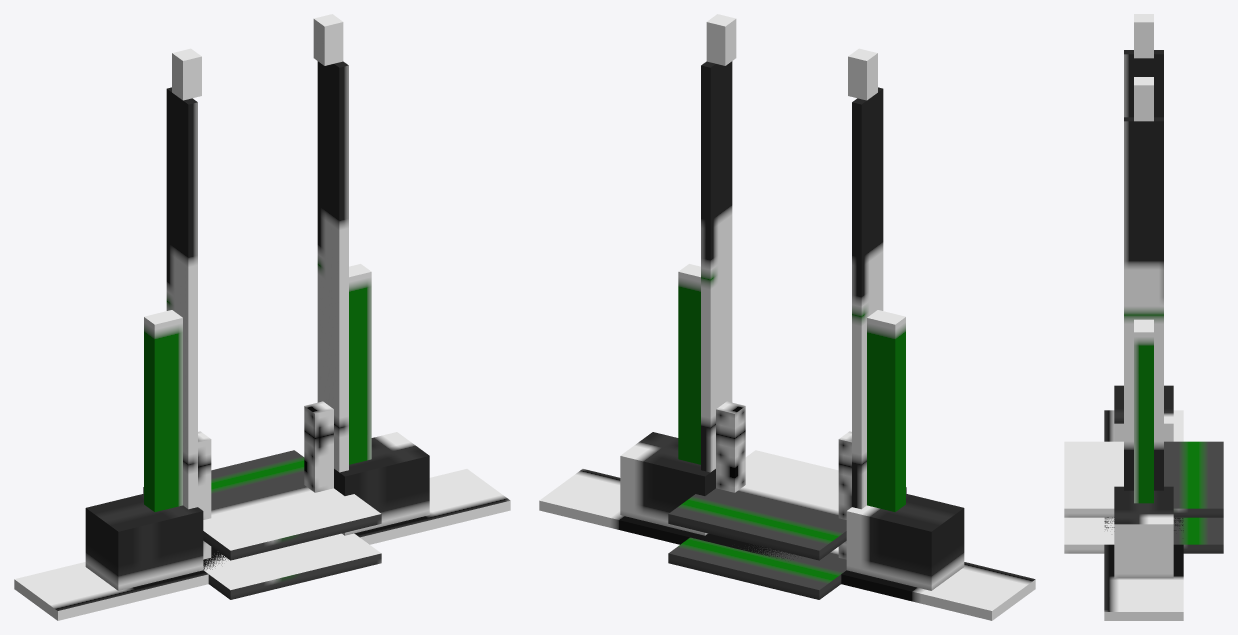
The model's file is launcher.obj.
3 views of the same model, side by side, from view 1: azimuth 30°, elevation 25°; view 2: azimuth 150°, elevation 25°; view 3: azimuth 270°, elevation 25° (orthographic). The views are drawn at different scales.
Visible parts, largest first — view 1: Shape11, Shape6, Shape15, Shape7, Shape17, Shape9, Shape1, Shape16, Shape12, Shape13.001, Shape14, Shape10 (+1 smaller); view 2: Shape11, Shape6, Shape15, Shape7, Shape17, Shape9, Shape16, Shape1, Shape12, Shape13.001, Shape14, Shape10 (+1 smaller); view 3: Shape11, Shape6, Shape16, Shape15, Shape12, Shape1, Shape7, Shape17, Shape10, Shape14.
Boxes of the visible parts, x1=… form: Shape11: x1=317, y1=61, x2=348, y2=472; Shape6: x1=143, y1=450, x2=381, y2=560; Shape15: x1=14, y1=469, x2=510, y2=620; Shape7: x1=166, y1=87, x2=197, y2=509; Shape17: x1=85, y1=493, x2=203, y2=590; Shape9: x1=144, y1=310, x2=182, y2=511; Shape1: x1=203, y1=533, x2=381, y2=599; Shape16: x1=334, y1=432, x2=429, y2=535; Shape12: x1=349, y1=264, x2=371, y2=464; Shape13.001: x1=304, y1=401, x2=333, y2=492; Shape14: x1=313, y1=14, x2=343, y2=65; Shape10: x1=172, y1=48, x2=201, y2=100; Shape11: x1=701, y1=61, x2=732, y2=472; Shape6: x1=668, y1=450, x2=906, y2=560; Shape15: x1=539, y1=469, x2=1035, y2=620; Shape7: x1=852, y1=87, x2=883, y2=509; Shape17: x1=846, y1=493, x2=964, y2=590; Shape9: x1=867, y1=310, x2=905, y2=511; Shape16: x1=620, y1=432, x2=715, y2=535; Shape1: x1=668, y1=537, x2=846, y2=599; Shape12: x1=678, y1=264, x2=700, y2=464; Shape13.001: x1=716, y1=401, x2=745, y2=492; Shape14: x1=706, y1=14, x2=736, y2=65; Shape10: x1=848, y1=48, x2=877, y2=100; Shape11: x1=1124, y1=117, x2=1163, y2=490; Shape6: x1=1064, y1=441, x2=1223, y2=517; Shape16: x1=1114, y1=486, x2=1173, y2=578; Shape15: x1=1104, y1=410, x2=1183, y2=620; Shape12: x1=1134, y1=319, x2=1153, y2=503; Shape1: x1=1064, y1=517, x2=1223, y2=553; Shape7: x1=1124, y1=50, x2=1163, y2=117; Shape17: x1=1114, y1=385, x2=1173, y2=441; Shape10: x1=1134, y1=14, x2=1153, y2=58; Shape14: x1=1134, y1=77, x2=1153, y2=121.
Bounding box in the file's own units: 3 × 3.25 × 1.
